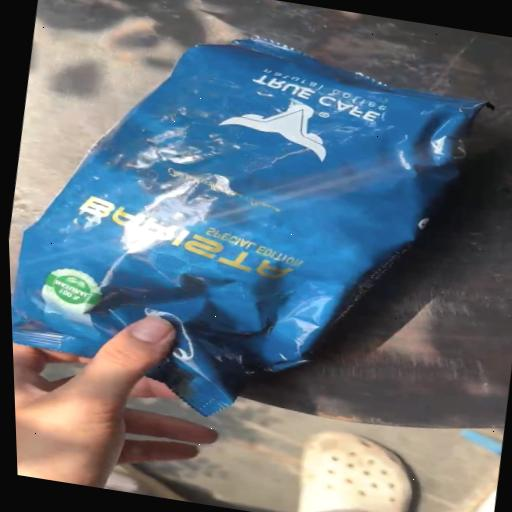cafe_hat: (12, 39, 491, 415)
